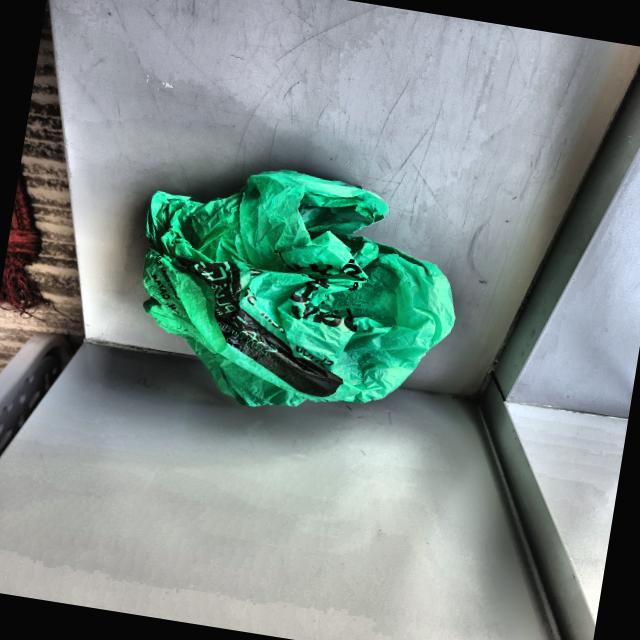plastic bag: (94, 140, 488, 457)
